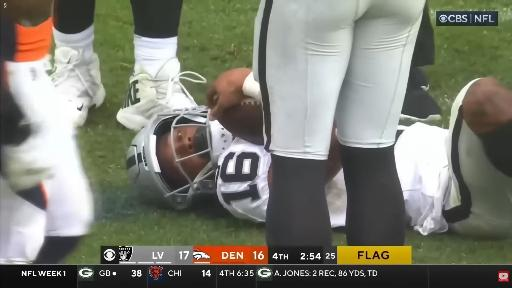Helmet: (127, 106, 232, 209)
Jersey: (395, 123, 449, 234)
Player: (253, 0, 425, 245), (0, 0, 93, 263), (127, 111, 273, 221), (117, 0, 205, 130)
